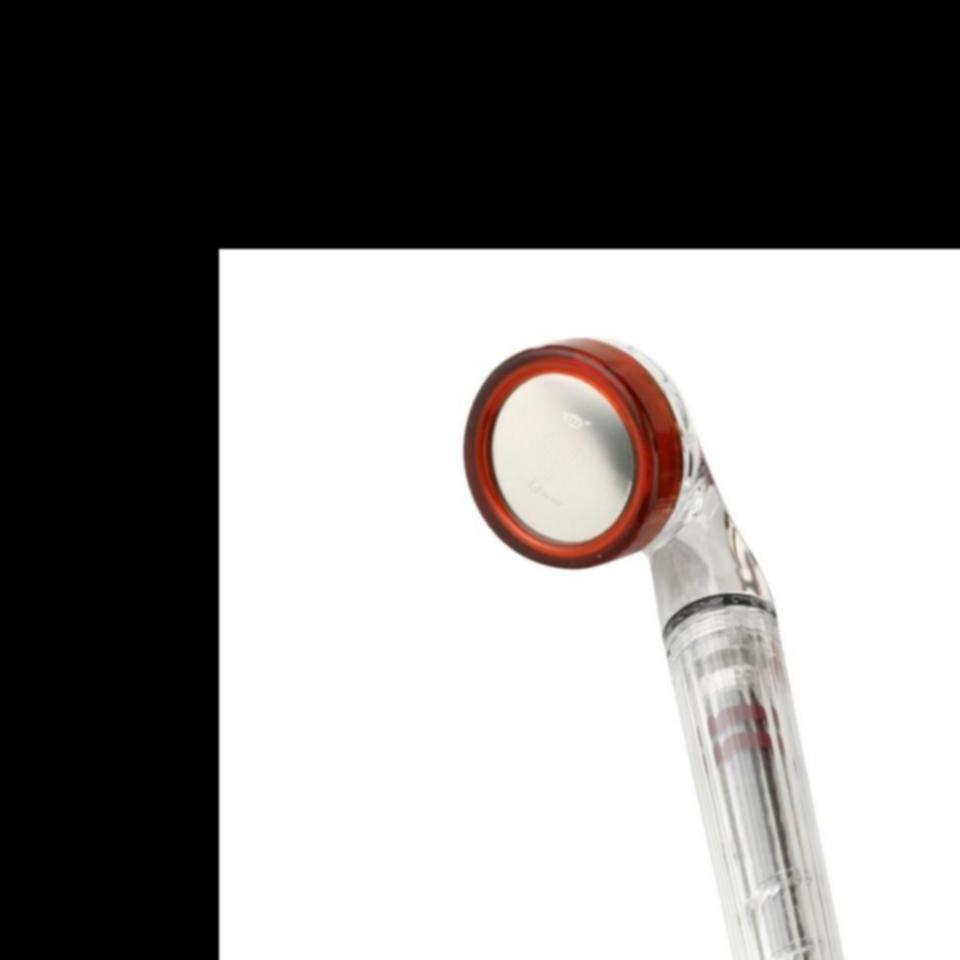Ducha: (462, 330, 901, 960)
